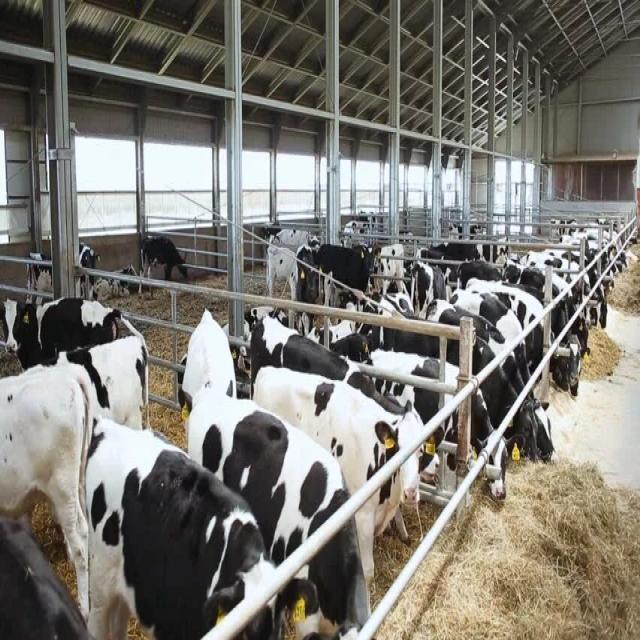cow: (190, 382, 372, 640), (83, 416, 280, 639), (252, 356, 433, 596), (392, 310, 541, 467), (380, 348, 509, 503), (438, 308, 556, 456), (2, 290, 128, 408), (512, 271, 582, 390), (139, 233, 187, 284)
